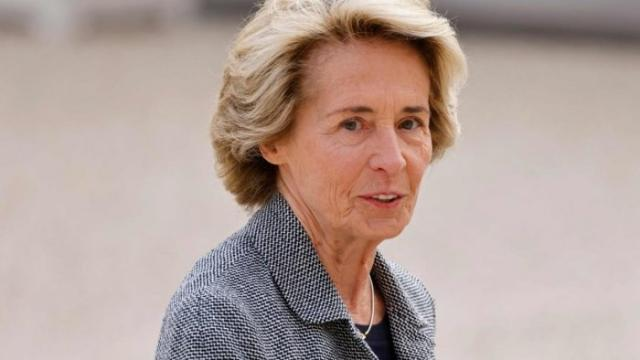crows_feet: (319, 124, 337, 140)
frown_line: (376, 100, 398, 120)
gummy_smile: (348, 154, 368, 188), (402, 158, 416, 194)
masseter: (324, 177, 340, 209)
